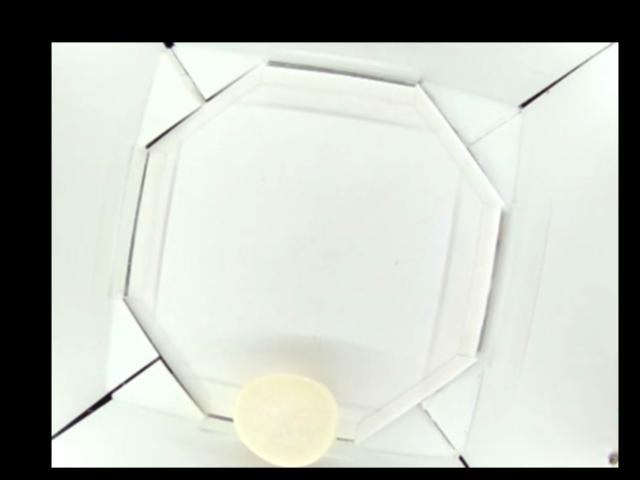Mooli: (232, 376, 340, 467)
